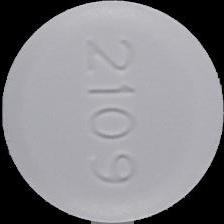50436-7076: (0, 0, 224, 224)
